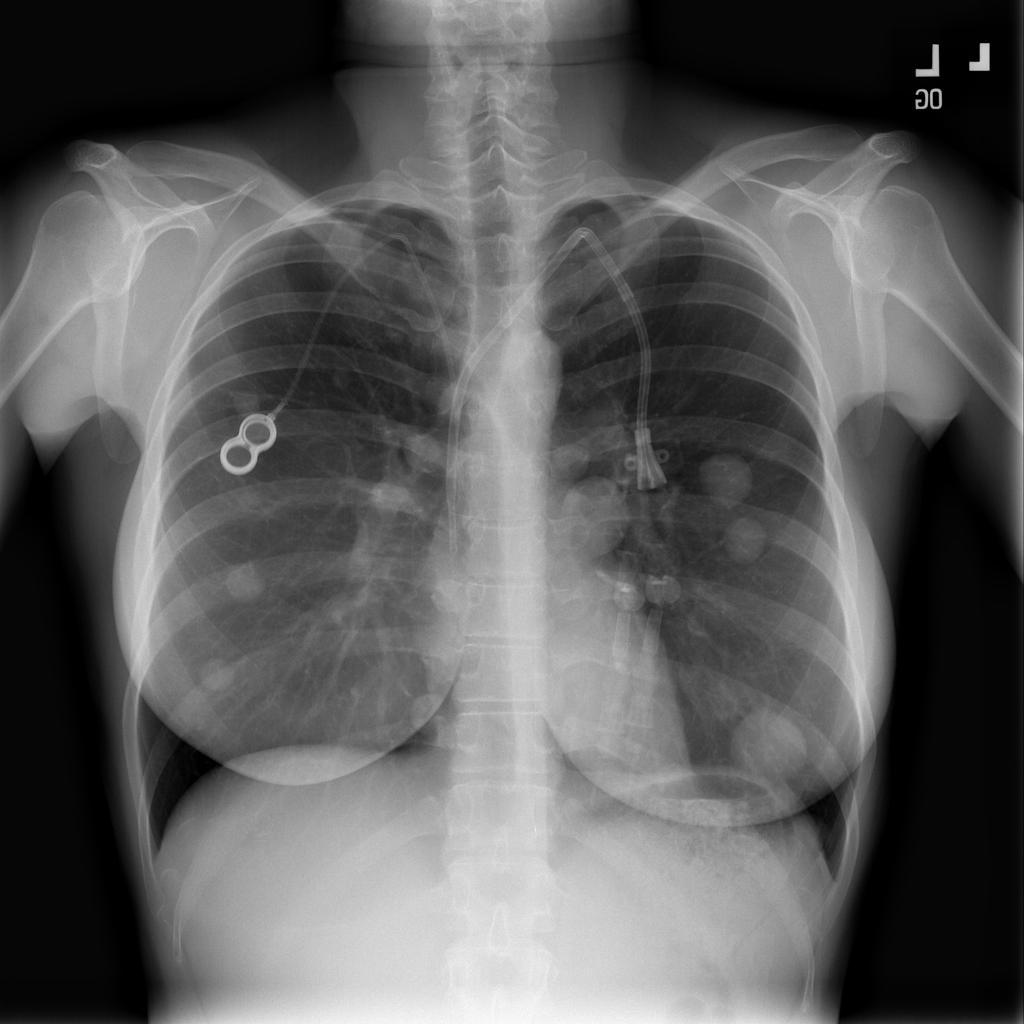nodule: (557, 475, 633, 563), (728, 709, 814, 785), (393, 676, 468, 750), (690, 441, 762, 513), (382, 420, 455, 489), (208, 547, 278, 616), (714, 504, 781, 575), (189, 649, 246, 697), (214, 373, 270, 420), (544, 436, 595, 487)
